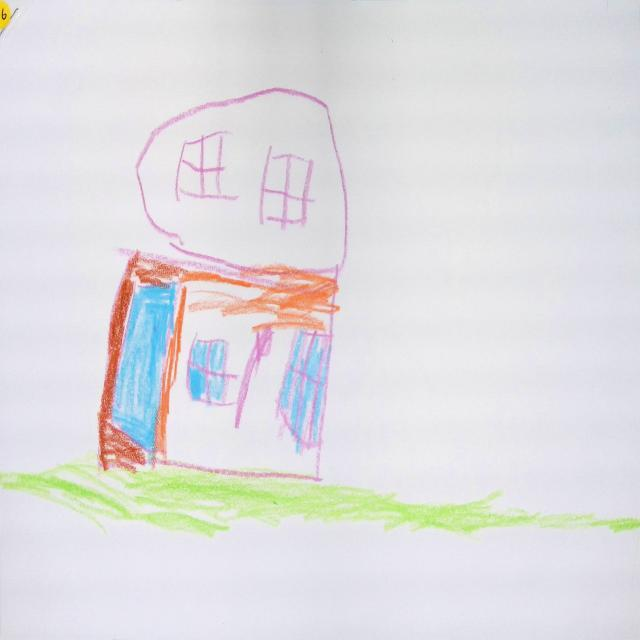door: (112, 284, 174, 452)
house: (98, 88, 347, 480)
roof: (136, 88, 347, 272)
wall: (98, 250, 341, 481)
window: (278, 331, 332, 454), (260, 146, 314, 230), (175, 131, 238, 200), (187, 339, 231, 404)
